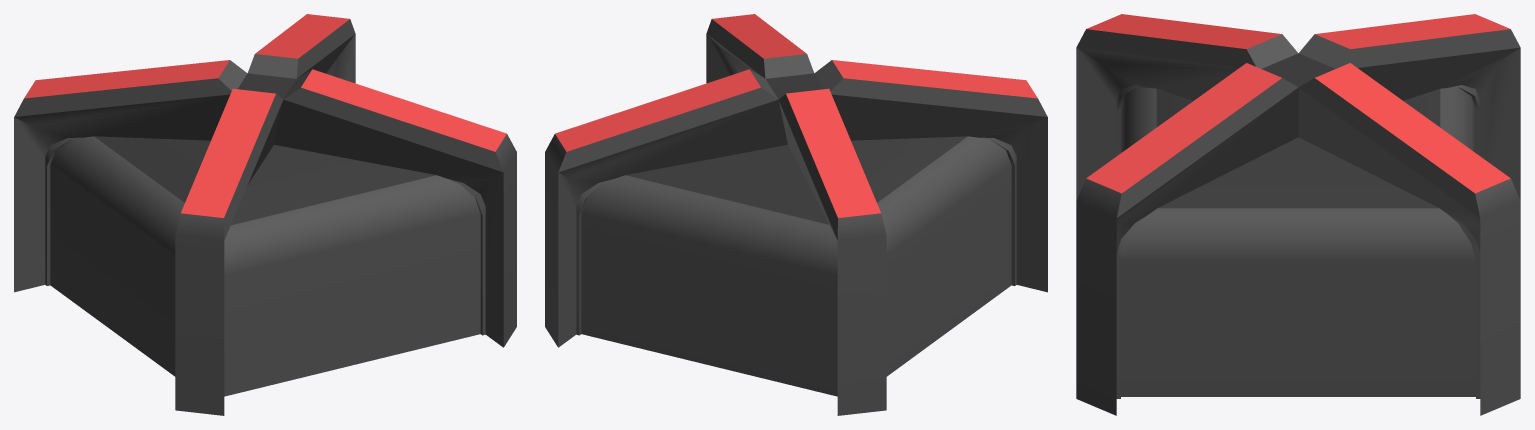
Rendered from Blocker_1x1.fbx.
The picture shows the model from 3 angles, left to right: view 1: azimuth 30°, elevation 25°; view 2: azimuth 150°, elevation 25°; view 3: azimuth 270°, elevation 25°; orthographic projection. The views are drawn at different scales.
Parts seen in each view (by area): view 1: x1_Blocker; view 2: x1_Blocker; view 3: x1_Blocker.
Boxes of the visible parts, <box> form: x1_Blocker: <box>14,14,516,415</box>; x1_Blocker: <box>545,14,1047,415</box>; x1_Blocker: <box>1076,14,1520,415</box>.
Bounding box in the file's own units: 0.7779 × 0.5139 × 0.7779.
